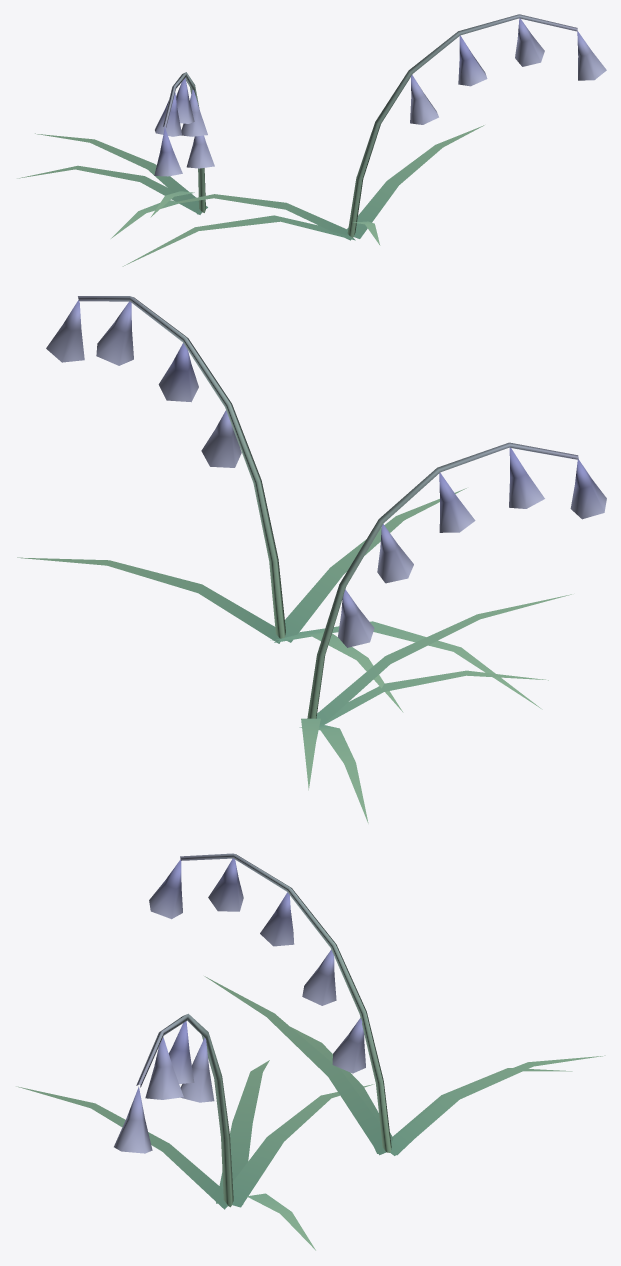
Rendered from bluebell_patch_c_mid.glb.
The picture shows the model from 3 angles, top to bottom: view 1: azimuth 30°, elevation 25°; view 2: azimuth 150°, elevation 25°; view 3: azimuth 270°, elevation 25°; orthographic projection. The views are drawn at different scales.
Parts seen in each view (by area): view 1: soft; view 2: soft; view 3: soft.
Boxes of the visible parts, bbox=[...] form: soft: bbox=[17, 14, 606, 266]; soft: bbox=[17, 296, 606, 823]; soft: bbox=[16, 853, 605, 1250].
Size of the model in its own units: 0.8759 by 0.3976 by 0.816.
